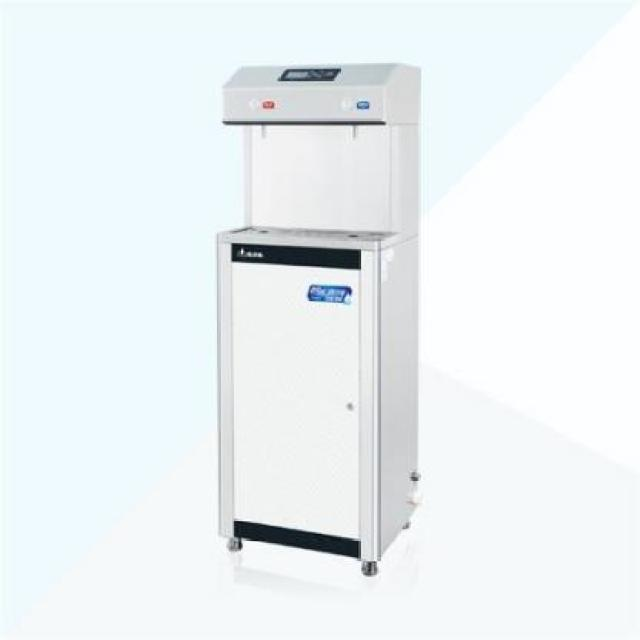cooler: (210, 57, 426, 578)
